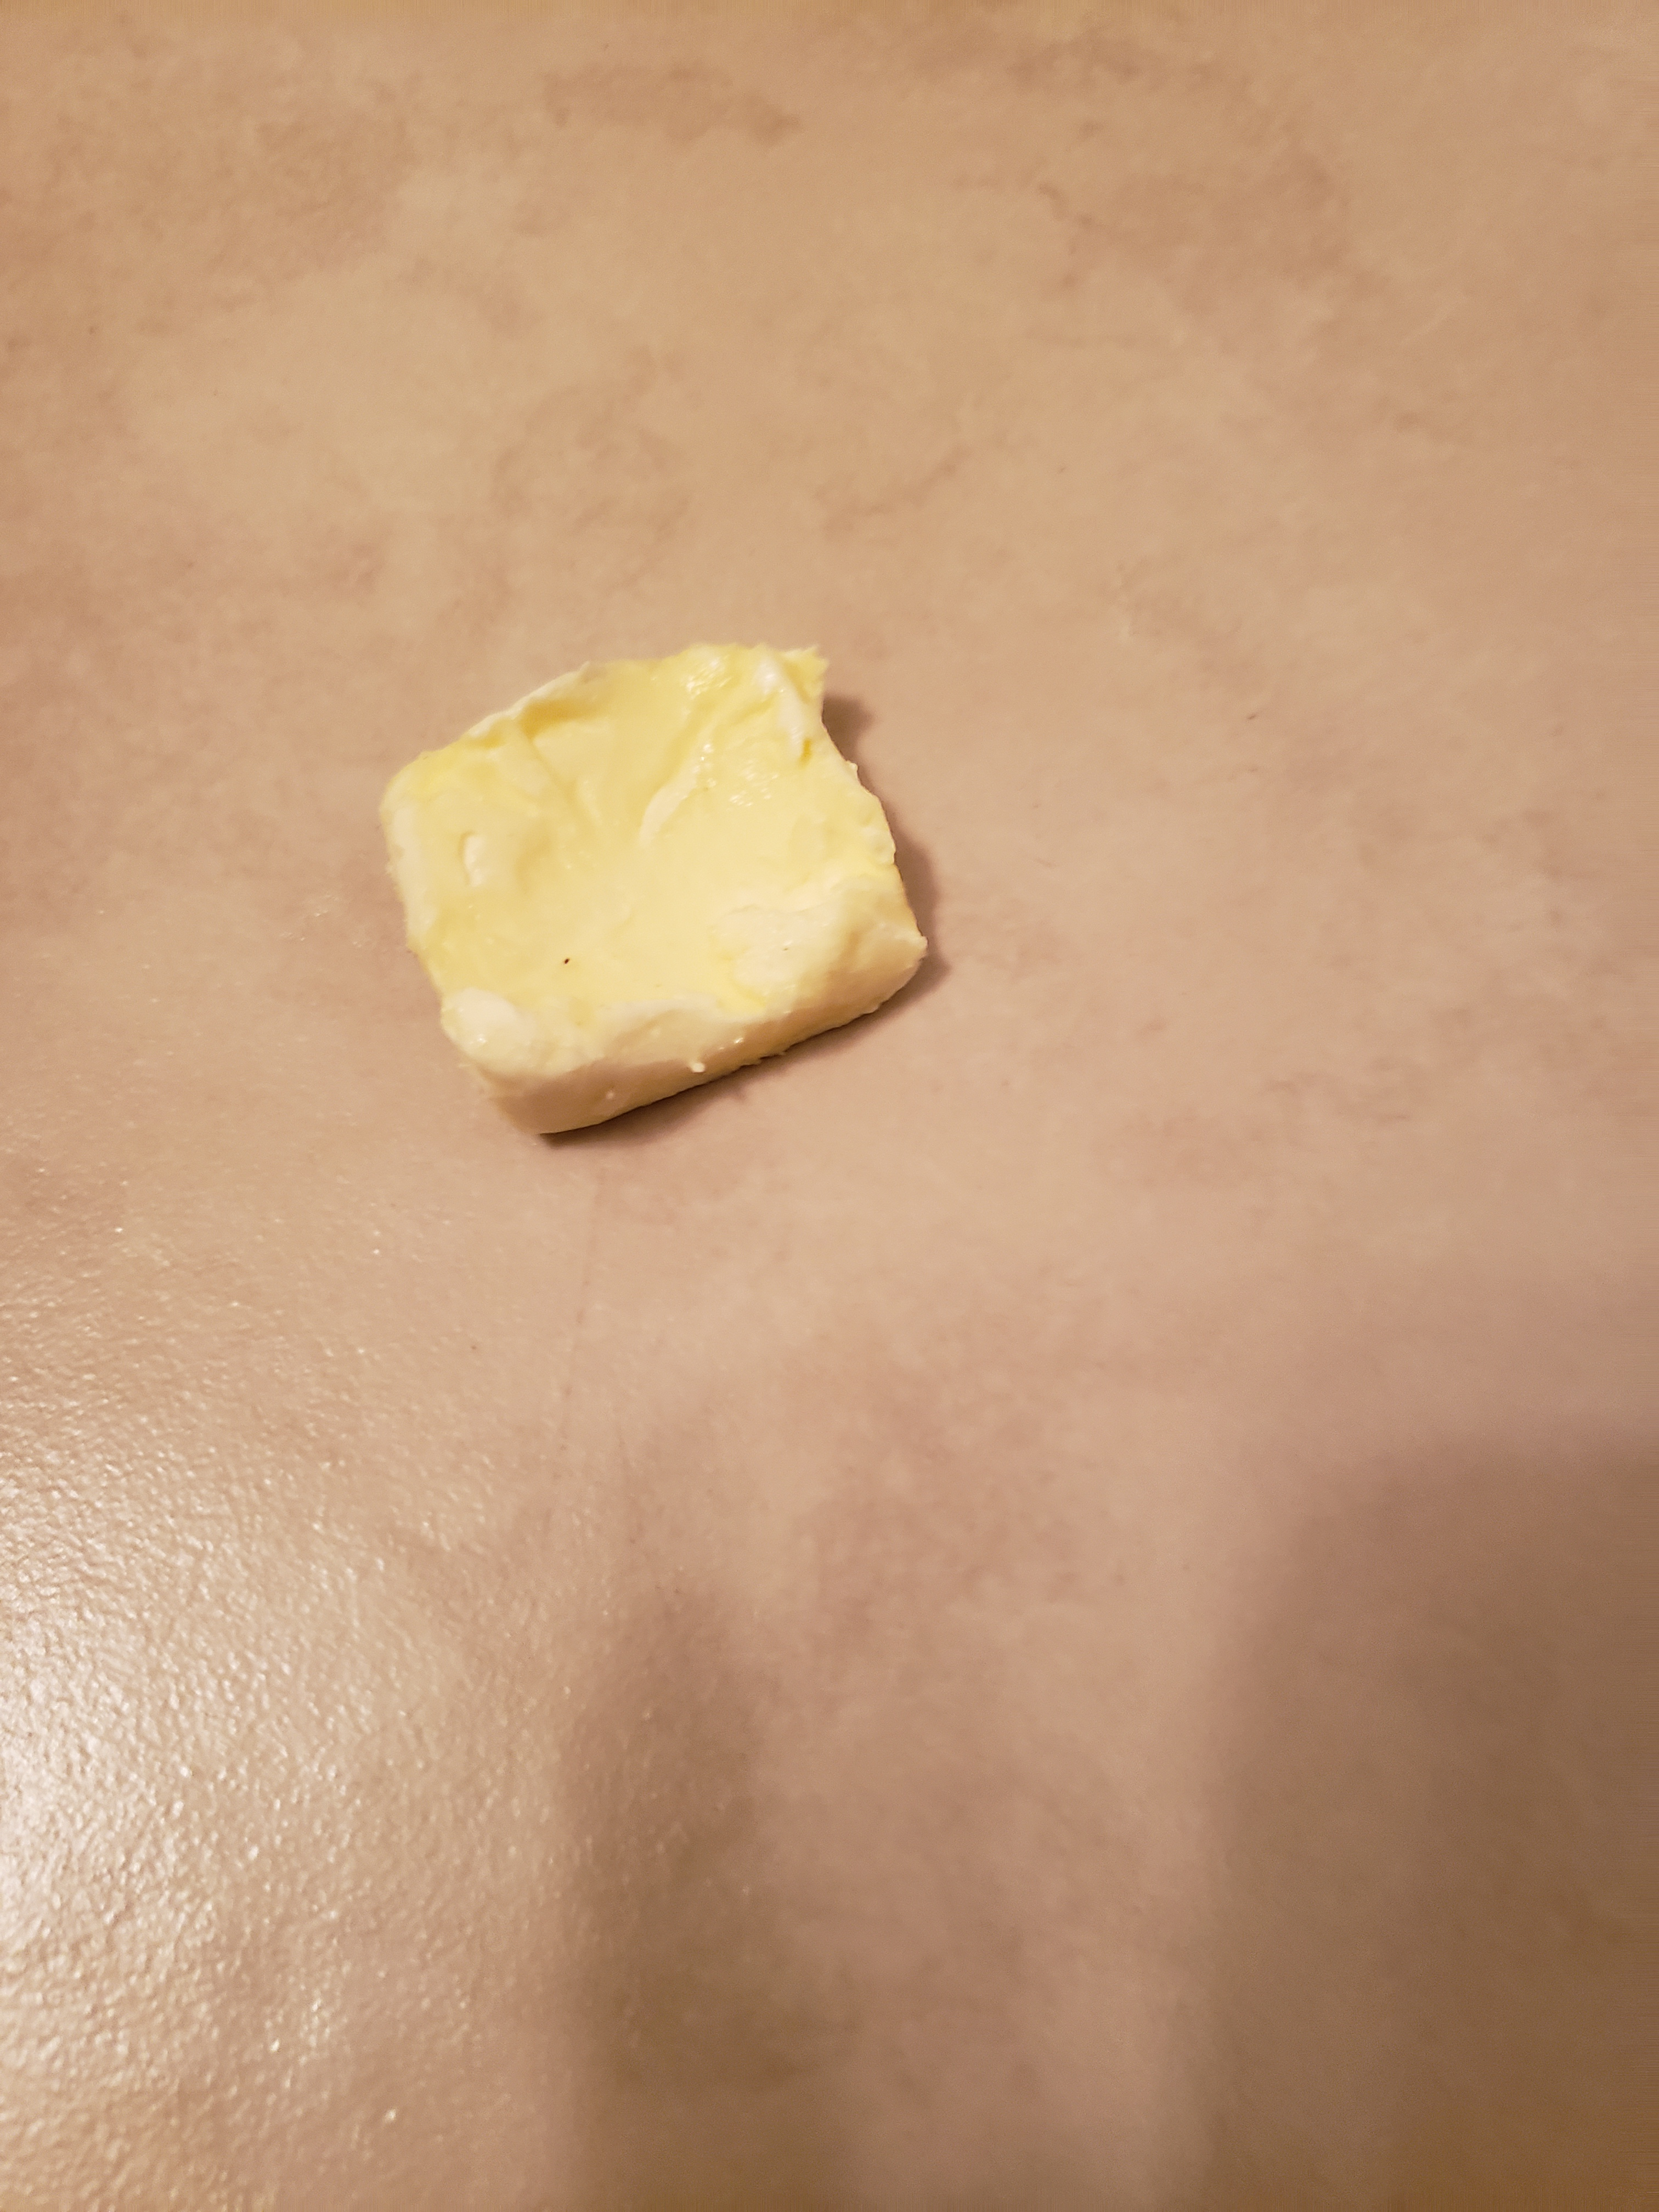Butter: (382, 641, 927, 1139)
